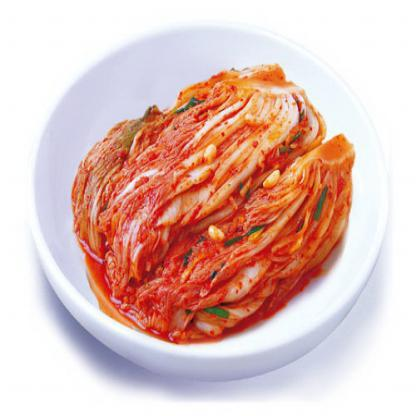kimchi: (132, 118, 376, 376), (74, 56, 329, 290)
